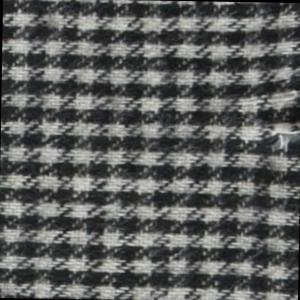Damage: (257, 106, 300, 156)
